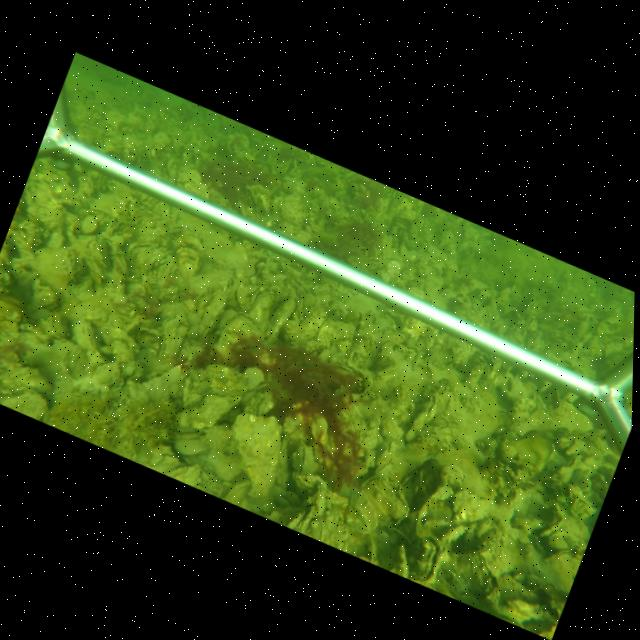Oyster-Closed: (190, 272, 238, 342), (349, 476, 406, 533), (124, 363, 183, 401), (214, 312, 264, 356), (0, 385, 49, 418), (123, 239, 166, 270), (411, 395, 438, 432), (248, 290, 276, 325), (176, 245, 202, 277), (180, 377, 209, 403), (295, 442, 315, 474), (226, 481, 252, 502), (310, 518, 325, 537)
Oyster-Indeterminate: (229, 409, 284, 498), (173, 384, 249, 433), (263, 293, 296, 345)
Oyster-Open: (413, 534, 449, 582)
